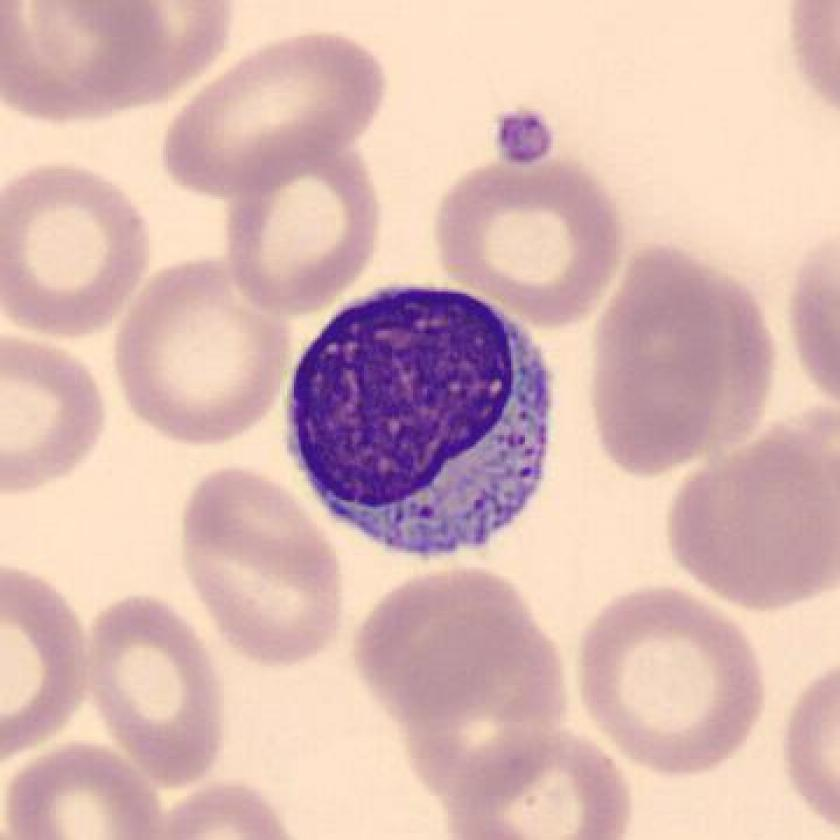lymphocyte: (277, 277, 571, 578)
